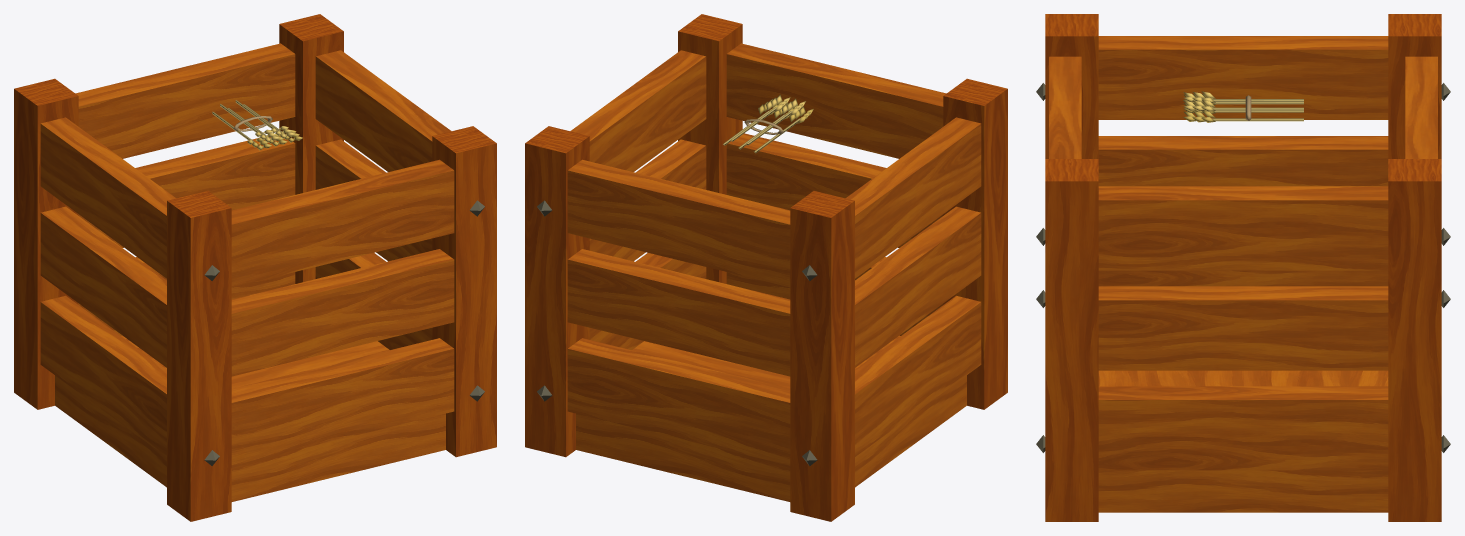
The model's file is farm-collection-box-8.gltf.
The picture shows the model from 3 angles, left to right: view 1: azimuth 30°, elevation 25°; view 2: azimuth 150°, elevation 25°; view 3: azimuth 270°, elevation 25°; orthographic projection. The views are drawn at different scales.
Parts seen in each view (by area): view 1: farm-collection-box-8; view 2: farm-collection-box-8; view 3: farm-collection-box-8.
Boxes of the visible parts, <box> form: farm-collection-box-8: <box>14,14,496,521</box>; farm-collection-box-8: <box>525,14,1007,521</box>; farm-collection-box-8: <box>1036,14,1450,521</box>.
Bounding box in the file's own units: 0.8002 × 0.759 × 0.8382.
2 materials, 1 textured.
